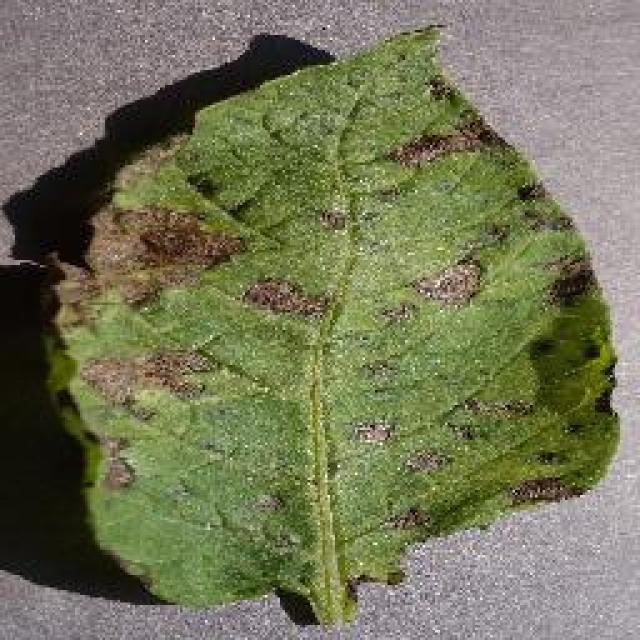early_blight: (40, 20, 625, 628)
